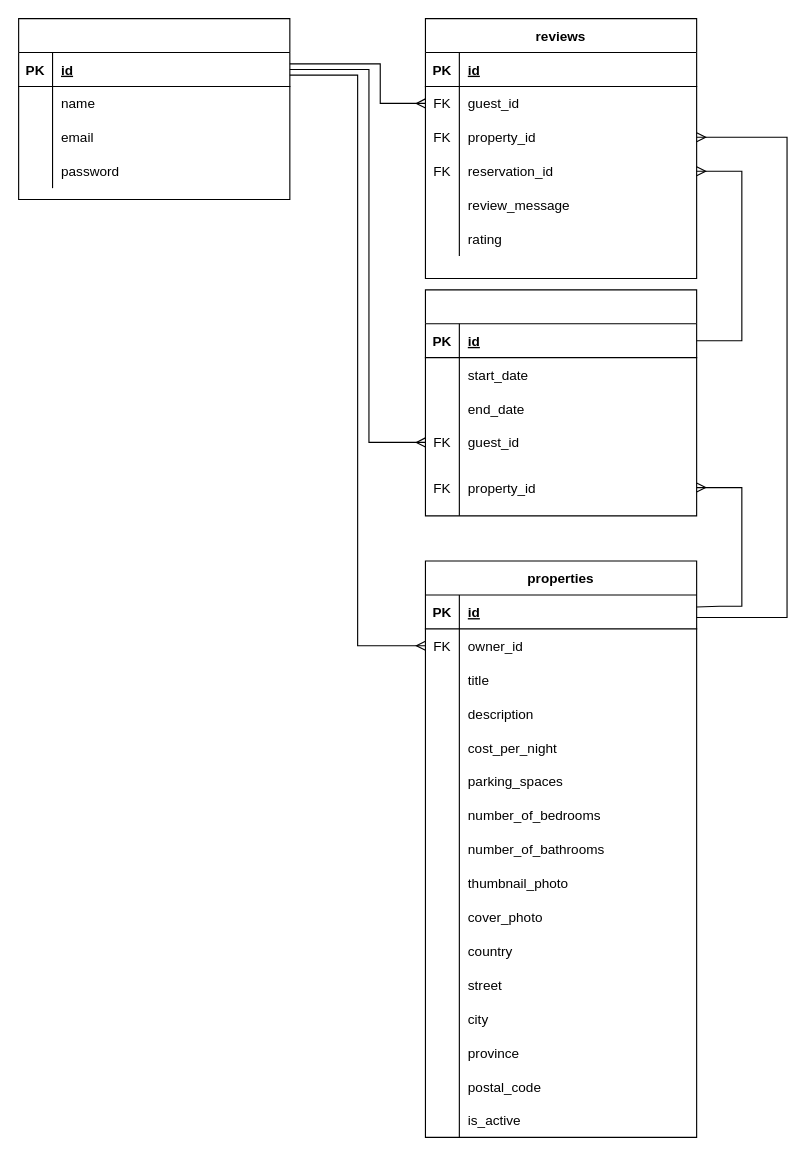
The diagram is 806 pixels wide and 1156 high, and some of its shapes have lost their labels. Here are the shapes that lost their labels. From the top down, the box of each, then its label:
(18, 18, 290, 199): users
(424, 289, 697, 516): reservations
